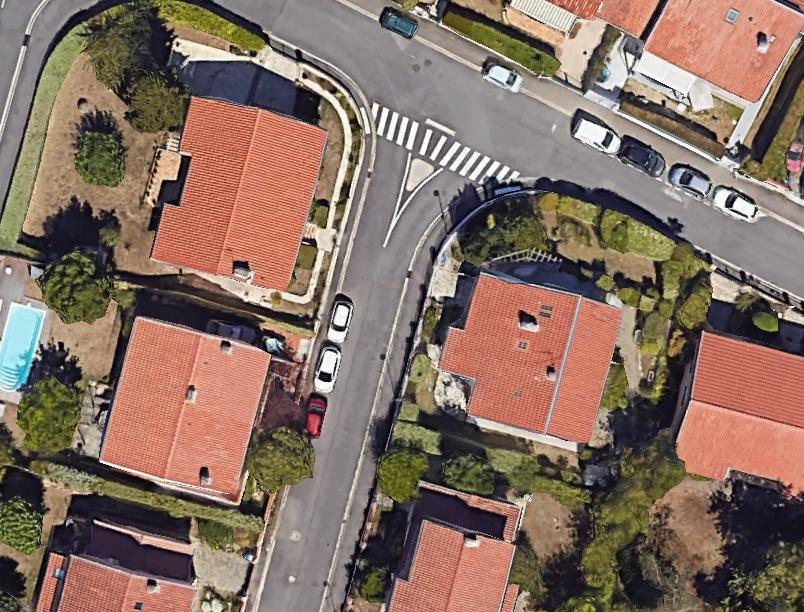maison: (426, 250, 626, 452), (147, 90, 332, 296), (96, 314, 277, 503), (667, 330, 804, 496), (386, 482, 537, 612), (645, 0, 803, 102), (38, 521, 195, 611), (548, 0, 658, 35)
